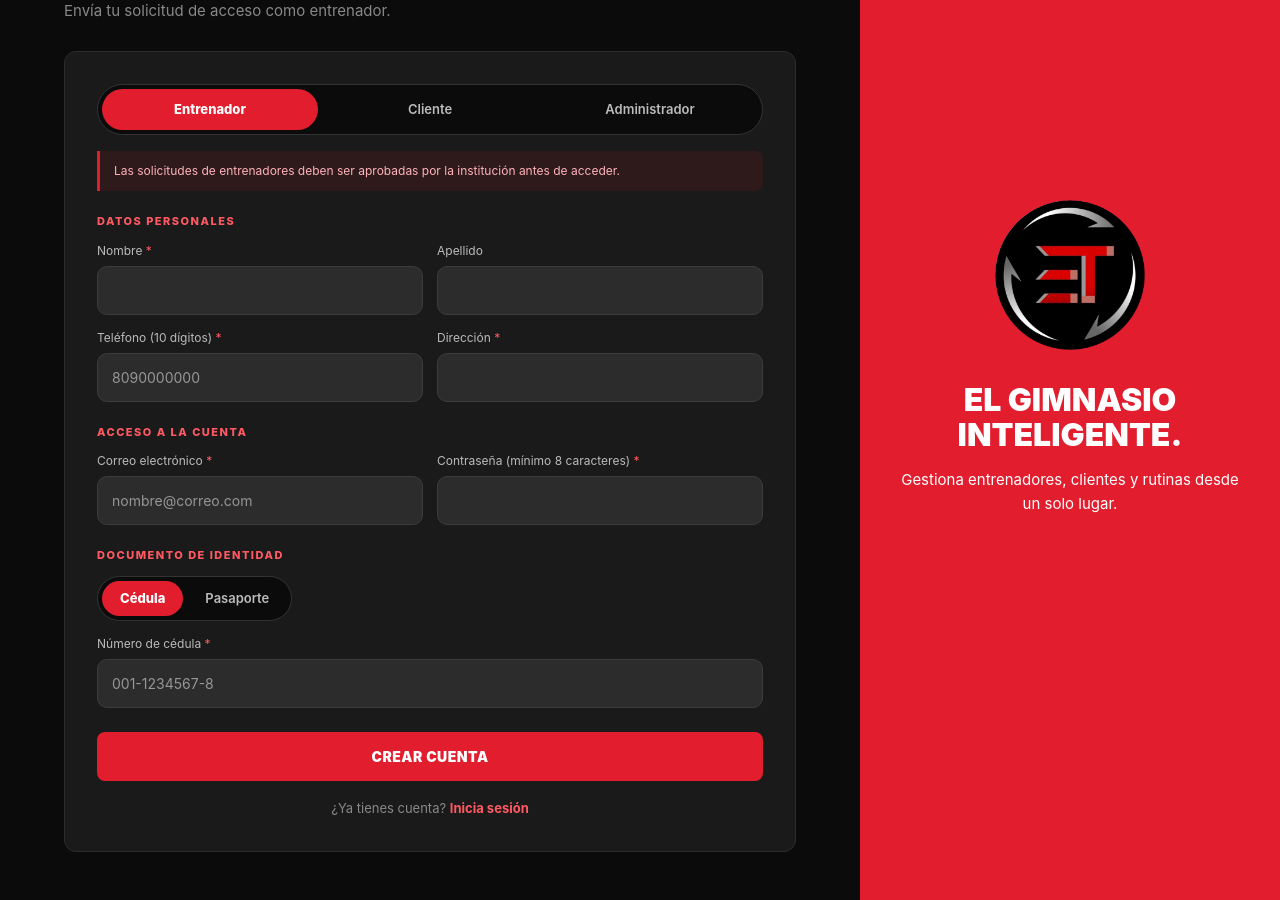
Scenario: Registro › rechaza el formulario de entrenador incompleto
(page scrolled)
Click the button "CREAR CUENTA" at (430, 757), box [97,732,763,781]
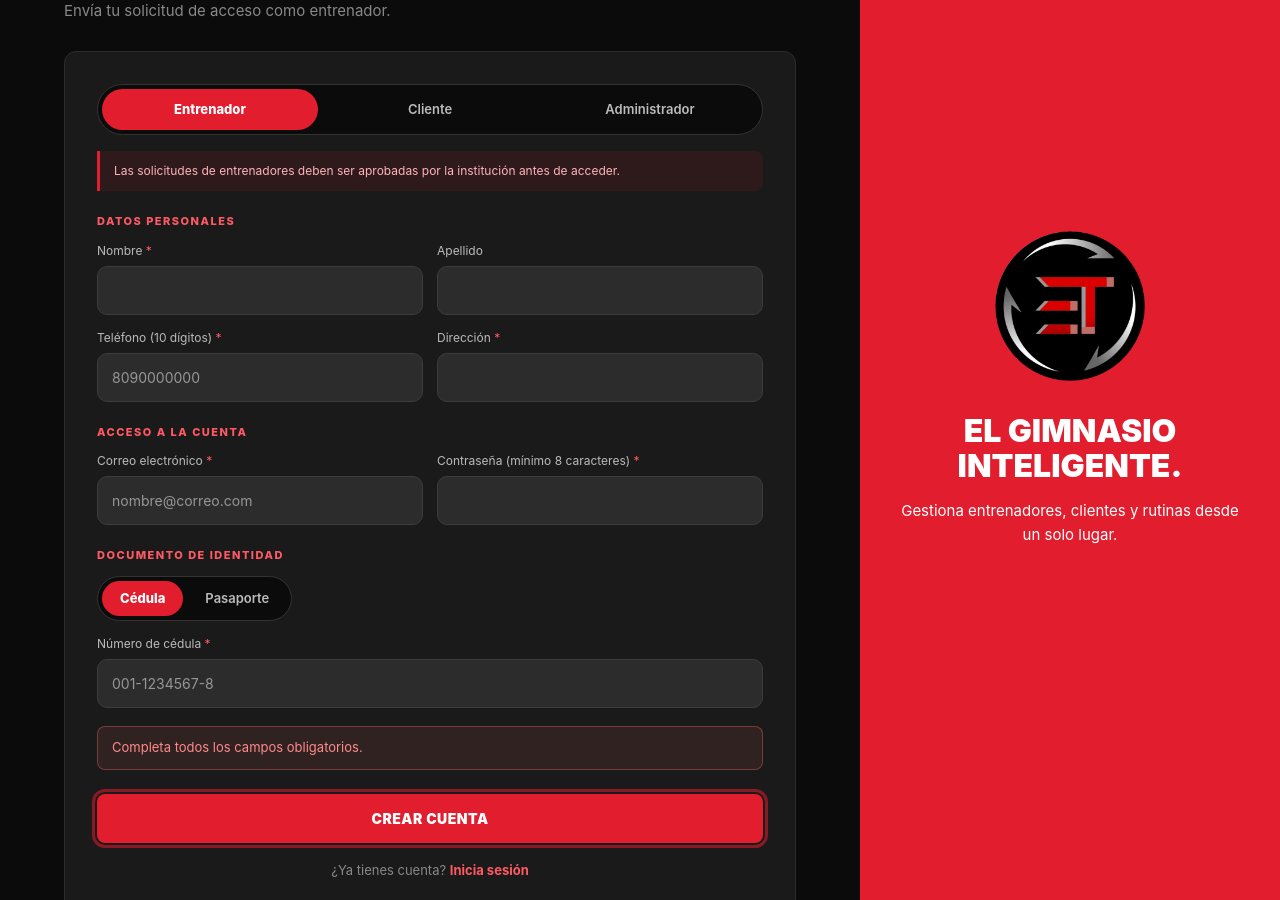
Expected: the message shows "campos obligatorios", [112,739,363,755]
